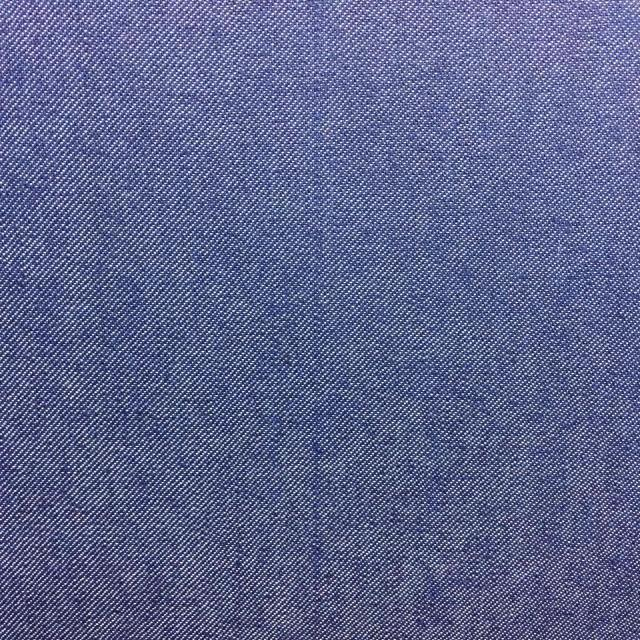Line: (310, 0, 324, 640)
